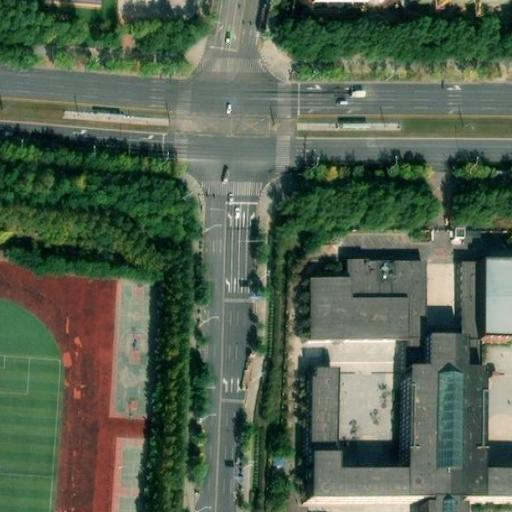building: (308, 260, 512, 512)
